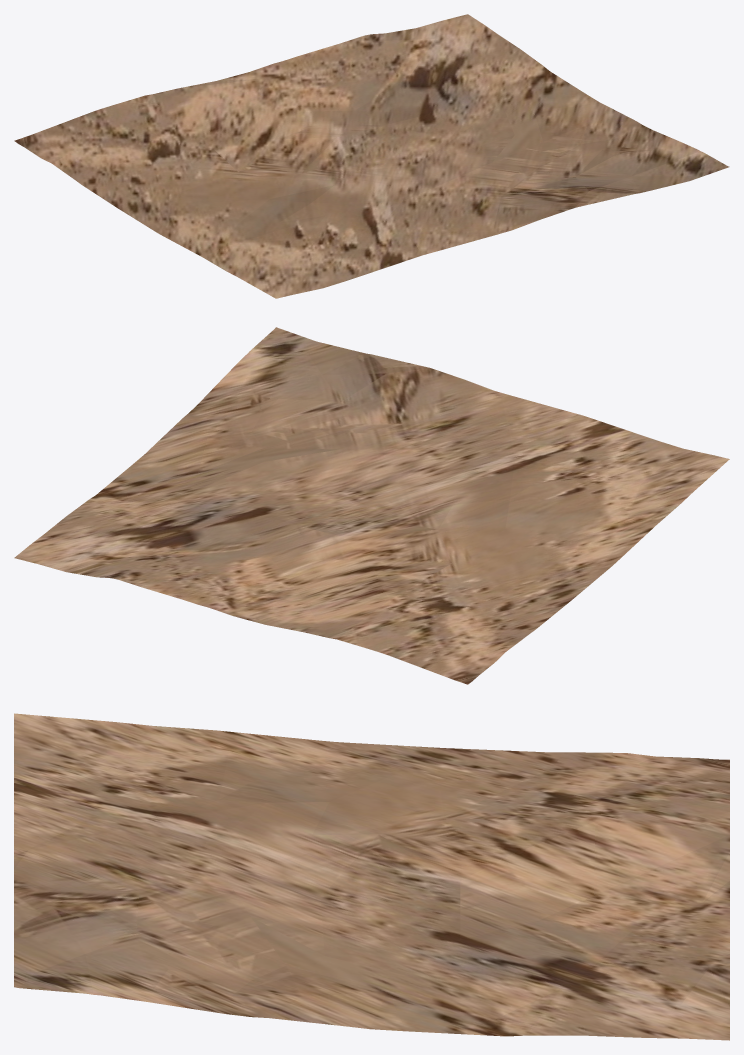
The picture shows the model from 3 angles, top to bottom: view 1: azimuth 30°, elevation 25°; view 2: azimuth 150°, elevation 25°; view 3: azimuth 270°, elevation 25°; orthographic projection. The views are drawn at different scales.
Bounding box in the file's own units: 2.09 × 0.2418 × 2.09.
Materials: 3 (3 with a texture image).
